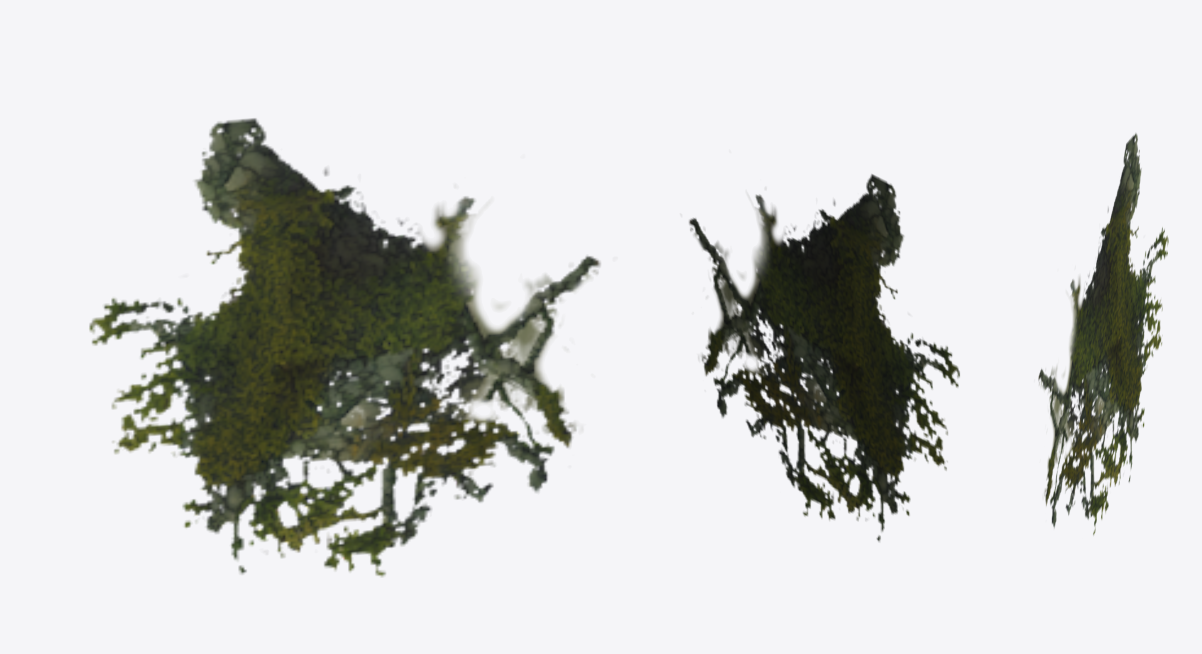
Rendered from liquen_3.gltf.
3 renders of one model, left to right at view 1: azimuth 30°, elevation 25°; view 2: azimuth 150°, elevation 25°; view 3: azimuth 270°, elevation 25°, orthographic. The views are drawn at different scales.
Visible parts, largest first — view 1: liquen_3; view 2: liquen_3; view 3: liquen_3.
Part boxes in pixels (x1,y1,x2,y2): liquen_3: [89, 118, 600, 576]; liquen_3: [689, 174, 959, 541]; liquen_3: [1038, 133, 1168, 535].
Bounding box in the file's own units: 2.27 × 2.4 × 0.7989.
1 material, 1 textured.
